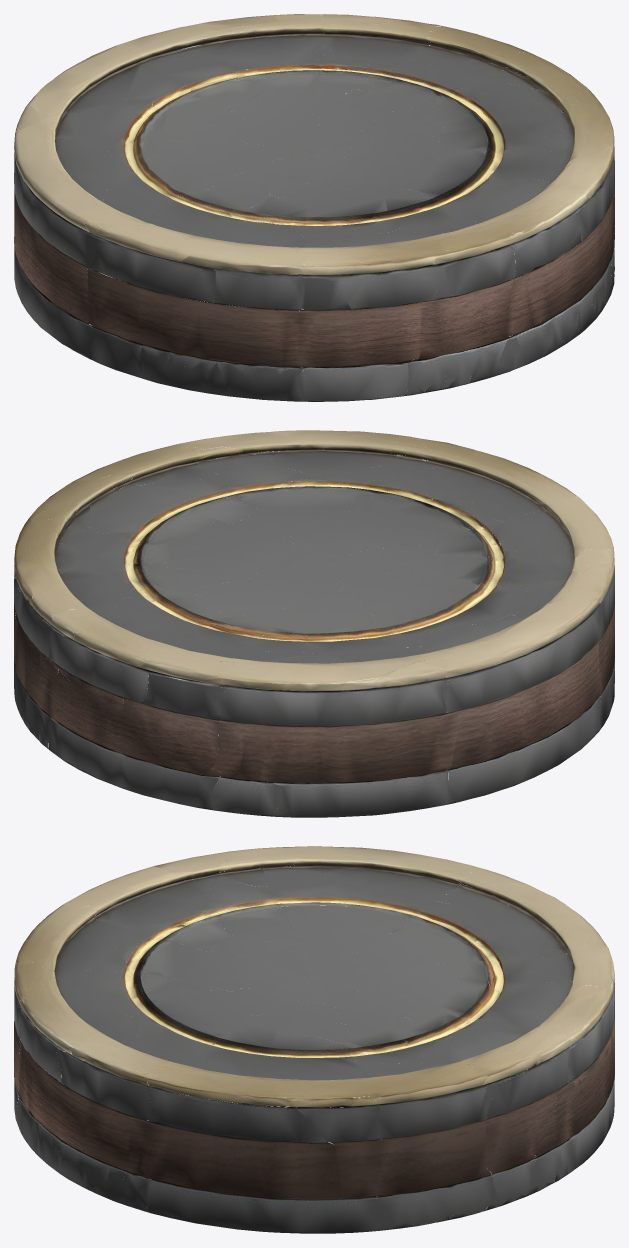
File: holo-hub.glb
3 views of the same model, one above another, from view 1: azimuth 30°, elevation 25°; view 2: azimuth 150°, elevation 25°; view 3: azimuth 270°, elevation 25° (orthographic).
Visible parts, largest first — view 1: tripo_node_0a012818-1eb2-4c13-b056-a3d885a1f228; view 2: tripo_node_0a012818-1eb2-4c13-b056-a3d885a1f228; view 3: tripo_node_0a012818-1eb2-4c13-b056-a3d885a1f228.
Boxes of the visible parts, left/top/right/bottom form: tripo_node_0a012818-1eb2-4c13-b056-a3d885a1f228: left=14, top=14, right=614, bottom=401; tripo_node_0a012818-1eb2-4c13-b056-a3d885a1f228: left=14, top=430, right=614, bottom=817; tripo_node_0a012818-1eb2-4c13-b056-a3d885a1f228: left=14, top=846, right=614, bottom=1233.
Size of the model in its own units: 0.5001 by 0.1304 by 0.5.
Materials: 1 (1 with a texture image).
